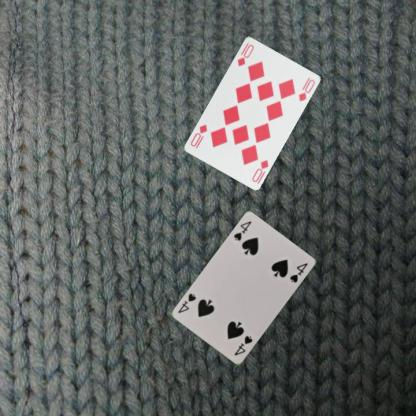10d: (235, 40, 256, 67), (249, 157, 270, 183)
4s: (232, 333, 254, 357), (231, 218, 253, 242)
